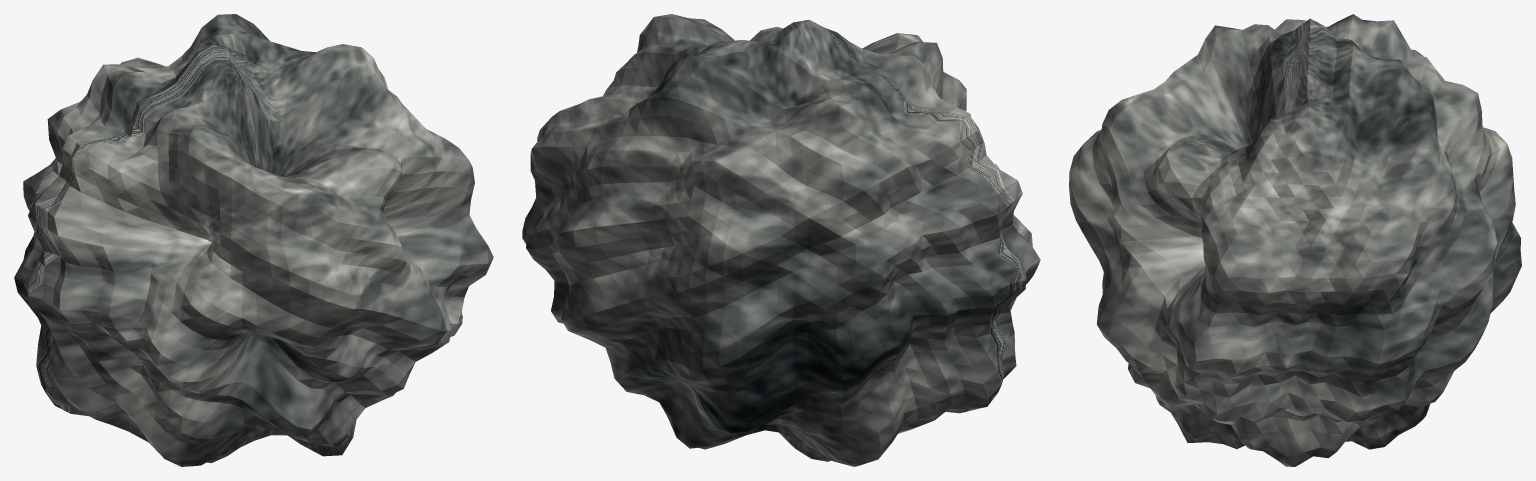
The model's file is pitted.glb.
The picture shows the model from 3 angles, left to right: view 1: azimuth 30°, elevation 25°; view 2: azimuth 150°, elevation 25°; view 3: azimuth 270°, elevation 25°; orthographic projection. The views are drawn at different scales.
Visible parts, largest first — view 1: rock; view 2: rock; view 3: rock.
Boxes of the visible parts, x1=… form: rock: x1=14, y1=14, x2=493, y2=466; rock: x1=522, y1=14, x2=1040, y2=466; rock: x1=1069, y1=14, x2=1521, y2=466.
Bounding box in the file's own units: 19.22 × 17.5 × 17.59.
1 material, 1 textured.
